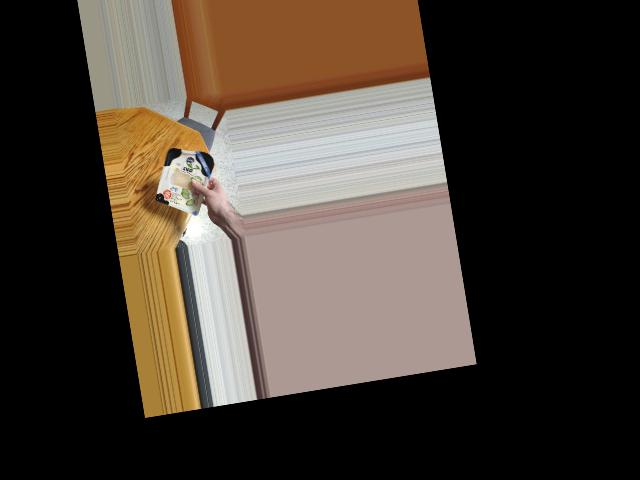cheese: (151, 141, 224, 214)
